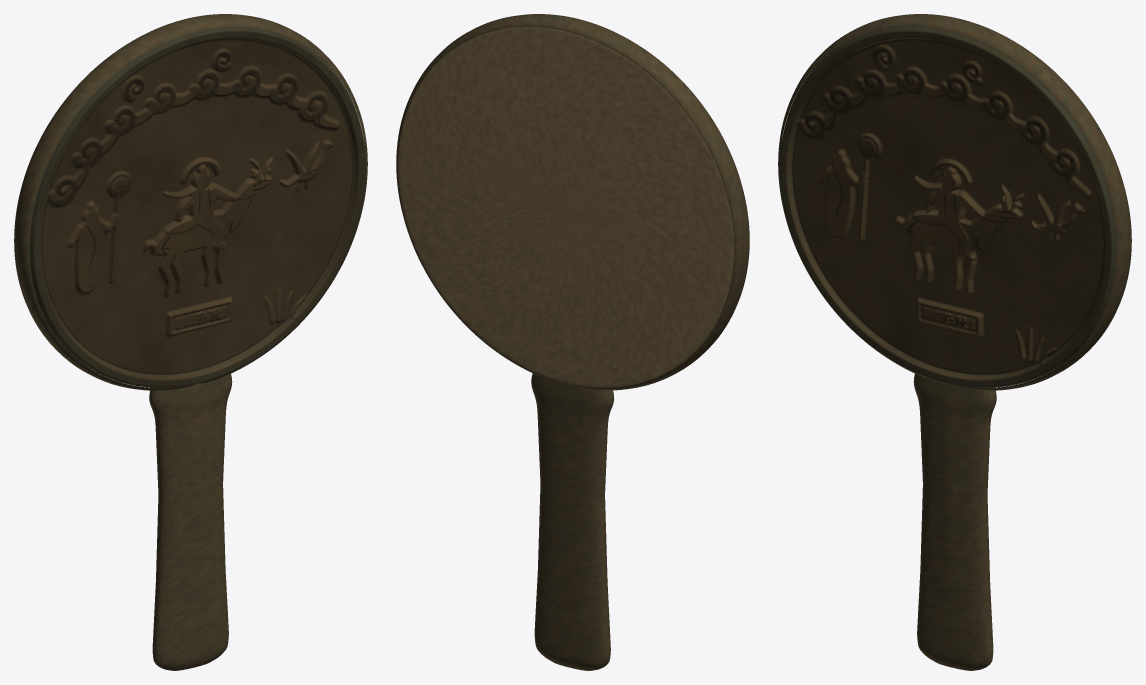
File: bm-mirror-1990-0531-8.glb
3 views of the same model, side by side, from view 1: azimuth 30°, elevation 25°; view 2: azimuth 150°, elevation 25°; view 3: azimuth 330°, elevation 25° (orthographic).
Parts seen in each view (by area): view 1: Song bronze mirror; view 2: Song bronze mirror; view 3: Song bronze mirror.
Part boxes in pixels (box(x1,y1,x2,y2)): Song bronze mirror: box(14, 14, 367, 670); Song bronze mirror: box(396, 14, 749, 670); Song bronze mirror: box(778, 14, 1131, 670).
Bounding box in the file's own units: 0.149 × 0.2656 × 0.0135.
Materials: 3 (1 with a texture image).
